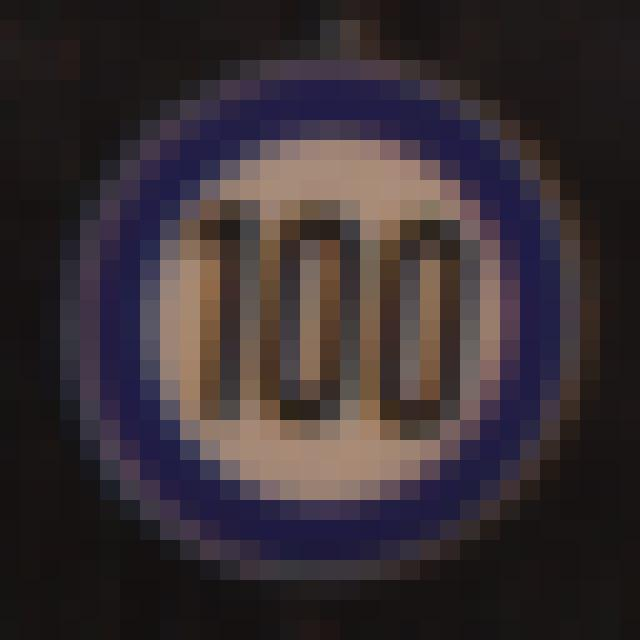SPEED LIMIT 100: (56, 68, 586, 578)
